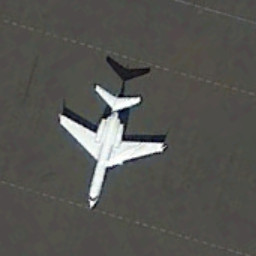Airplane: (50, 73, 173, 217)
